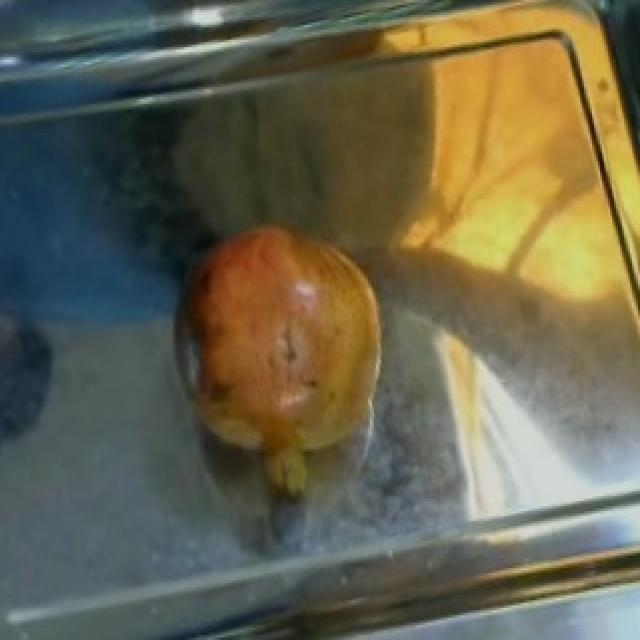fruit: (158, 201, 408, 494)
